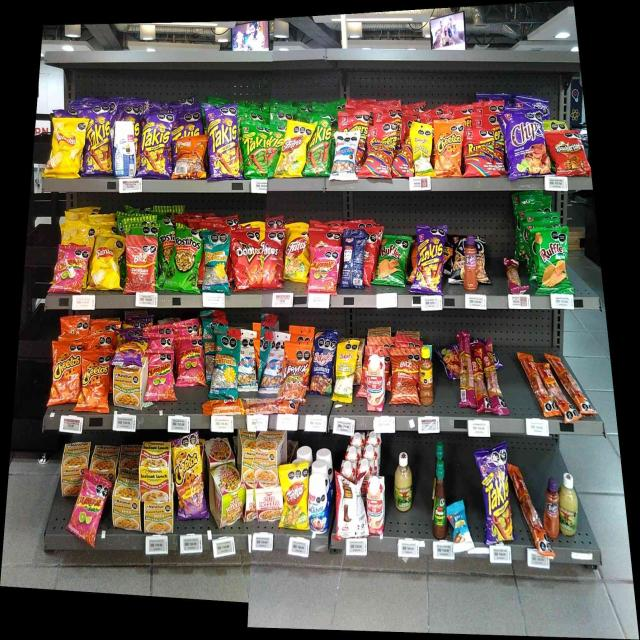bitzAlmendras: (450, 503, 470, 546)
bitzEnchilado90: (127, 239, 154, 293), (392, 354, 418, 404)
bitzEnchilado95: (531, 352, 585, 416), (511, 466, 542, 541), (205, 399, 298, 414)
bitzHabanero: (487, 344, 504, 414), (459, 332, 472, 405), (474, 344, 486, 413), (506, 259, 523, 294)
bokadosCacahuates: (313, 334, 333, 393)
botaneraChilito: (421, 346, 433, 404)
cheetosFlaminHot: (178, 438, 205, 520), (117, 332, 142, 366)
cheetosOriginal: (53, 342, 79, 400), (82, 352, 108, 410), (434, 121, 460, 174)
chipsFuego: (508, 110, 546, 175)
churrumais: (76, 480, 104, 538), (215, 335, 237, 396), (148, 351, 173, 401), (177, 338, 202, 387), (311, 247, 337, 292), (58, 246, 83, 292)
delPrimoSalsa: (561, 472, 579, 536), (395, 453, 412, 510)
doritosNacho: (233, 232, 260, 289), (263, 230, 284, 287)
fritosLimon: (282, 465, 306, 528), (281, 124, 305, 175), (286, 228, 308, 279)
leoCacahuates: (263, 335, 282, 393), (240, 332, 256, 391), (335, 134, 355, 180)
leoMix: (285, 343, 307, 395)
maruchanPollo: (111, 472, 138, 527), (253, 434, 280, 481), (114, 368, 144, 408), (144, 502, 173, 533)
maruchanRes: (140, 443, 170, 499)
nestleCarnation: (366, 476, 386, 534), (368, 356, 384, 409)
nestleLechera: (114, 121, 135, 177), (309, 474, 328, 532)
nissinCamaron: (210, 470, 241, 525)
nissinRes: (256, 483, 280, 521)
productoAtras: (336, 476, 363, 537), (177, 138, 204, 179), (344, 231, 362, 286)
rancheritos: (554, 131, 584, 173)
rufflesQueso: (380, 236, 405, 284)
runners: (537, 231, 568, 292), (465, 128, 494, 177), (368, 126, 392, 178)
sabritasOriginal: (52, 118, 81, 176), (95, 236, 119, 289)
salsaBufalo: (434, 461, 446, 539)
semillasCalabaza: (337, 344, 353, 399), (414, 124, 431, 174)
semillasGirasol: (205, 236, 228, 290)
tajinDulce: (544, 478, 559, 527), (464, 236, 477, 289)
takisFuego: (482, 451, 509, 541), (210, 108, 238, 177), (141, 114, 168, 176), (86, 109, 110, 176), (418, 226, 442, 292)
takisOriginal: (244, 125, 269, 176), (309, 115, 330, 175)
tostitos: (176, 227, 199, 290), (159, 222, 174, 280)
